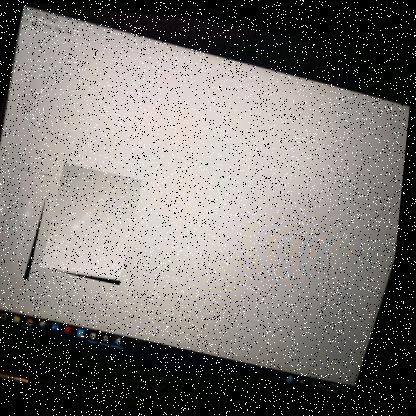spot: (44, 160, 147, 285), (0, 163, 56, 281)
